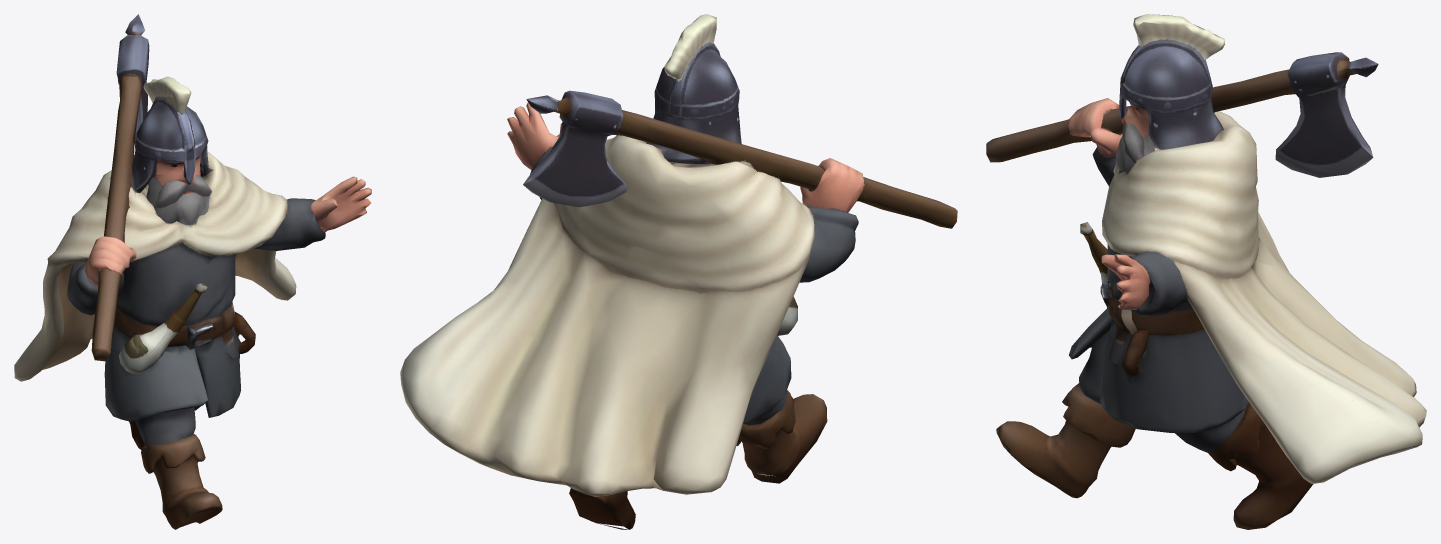
The model's file is hold_captain_march.glb.
3 renders of one model, left to right at view 1: azimuth 30°, elevation 25°; view 2: azimuth 150°, elevation 25°; view 3: azimuth 270°, elevation 25°, orthographic. The views are drawn at different scales.
Visible parts, largest first — view 1: world; view 2: world; view 3: world.
Part boxes in pixels (x1,y1,x2,y2): world: [14, 14, 371, 529]; world: [400, 14, 957, 529]; world: [986, 14, 1426, 529].
Bounding box in the file's own units: 0.8482 × 1 × 0.8148.
Materials: 1 (1 with a texture image).
